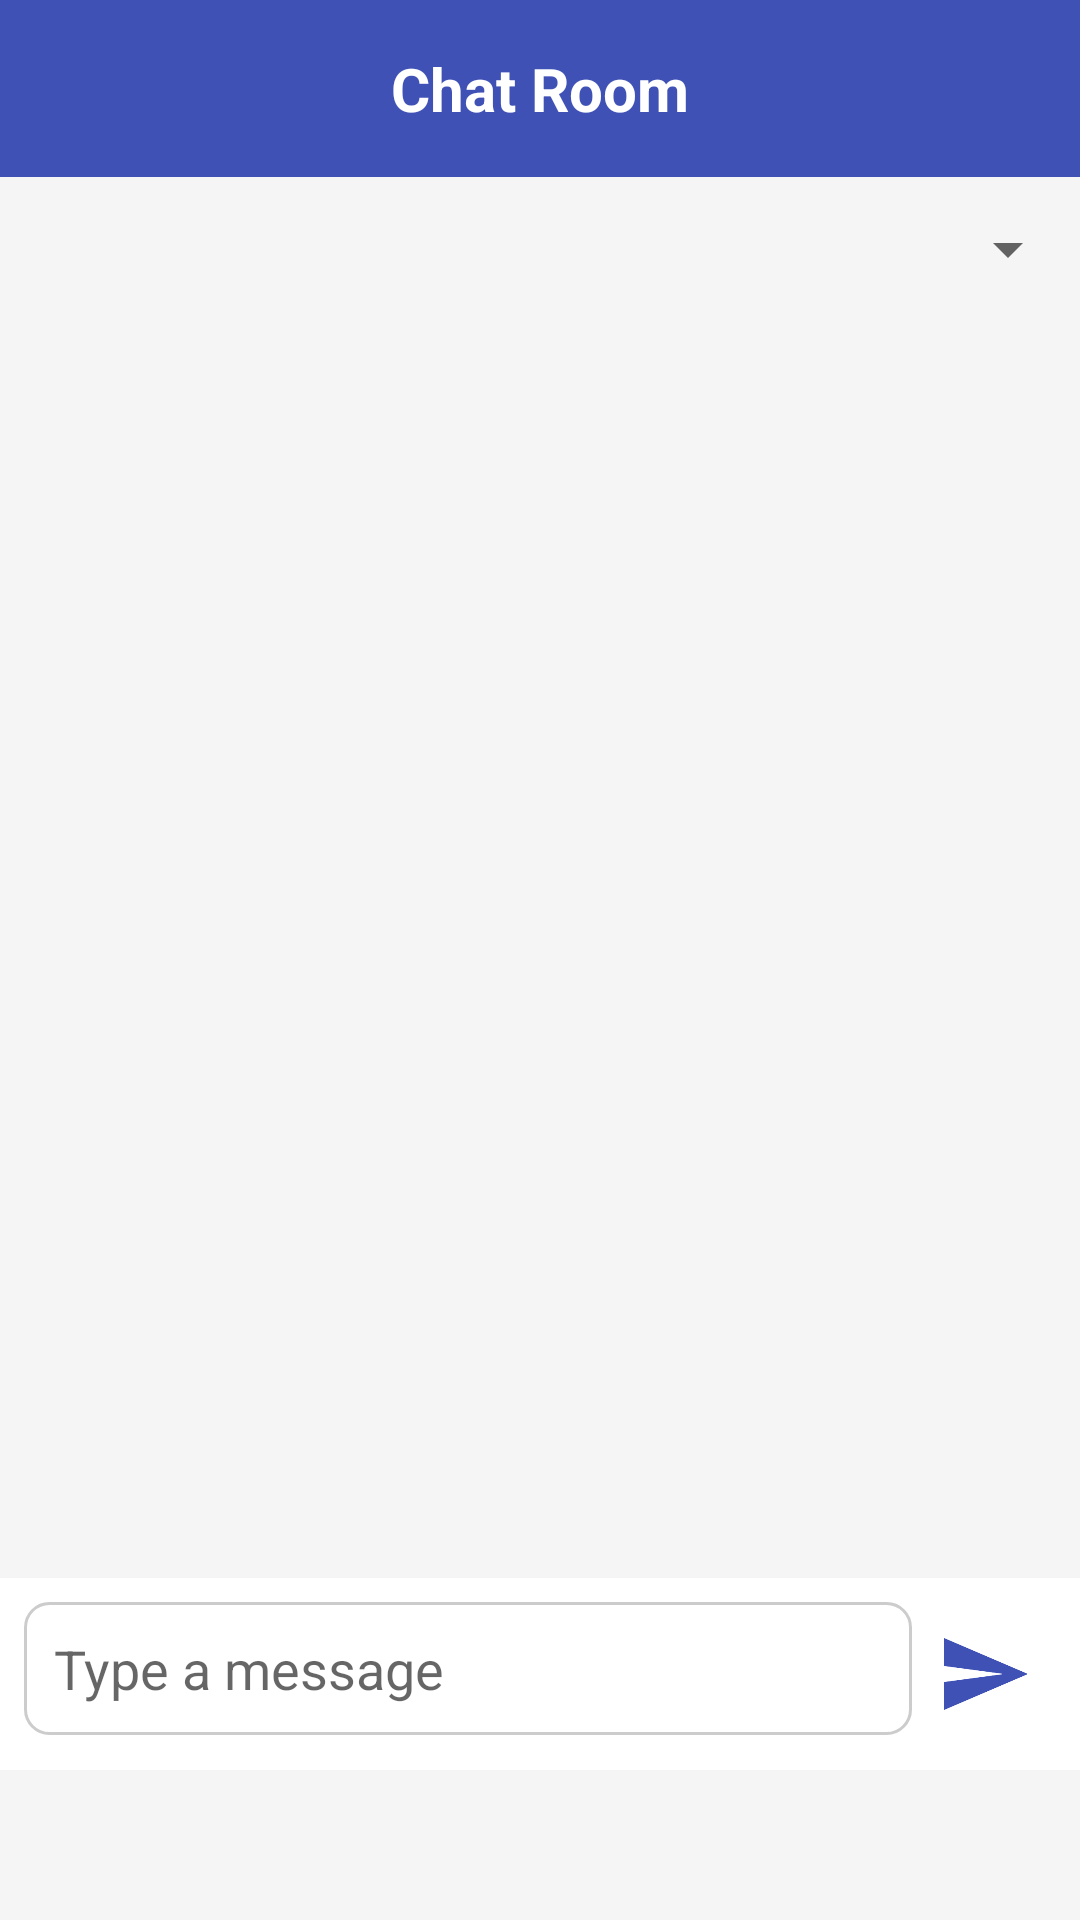

Where icons sit on this 1080 x 1920 app screen, as box(x1, y1, x2, y2):
Send: box(944, 1638, 1027, 1710)
